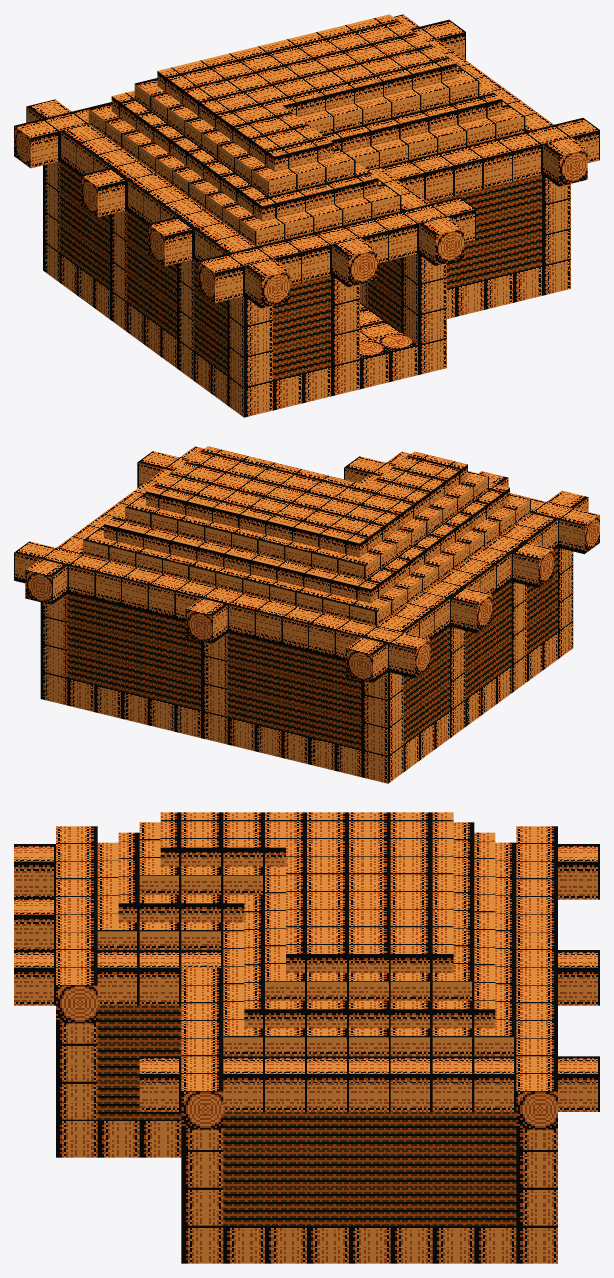
File: house_basic_a.fbx
3 views of the same model, one above another, from view 1: azimuth 30°, elevation 25°; view 2: azimuth 150°, elevation 25°; view 3: azimuth 270°, elevation 25° (orthographic). The views are drawn at different scales.
Visible parts, largest first — view 1: New_World__-3_-61_-13_to_12_319_2; view 2: New_World__-3_-61_-13_to_12_319_2; view 3: New_World__-3_-61_-13_to_12_319_2.
Boxes of the visible parts, x1,y1,x2,y2 form: New_World__-3_-61_-13_to_12_319_2: (14, 14, 599, 417); New_World__-3_-61_-13_to_12_319_2: (14, 446, 599, 783); New_World__-3_-61_-13_to_12_319_2: (14, 812, 599, 1263).
Bounding box in the file's own units: 1500 × 700 × 1400.
